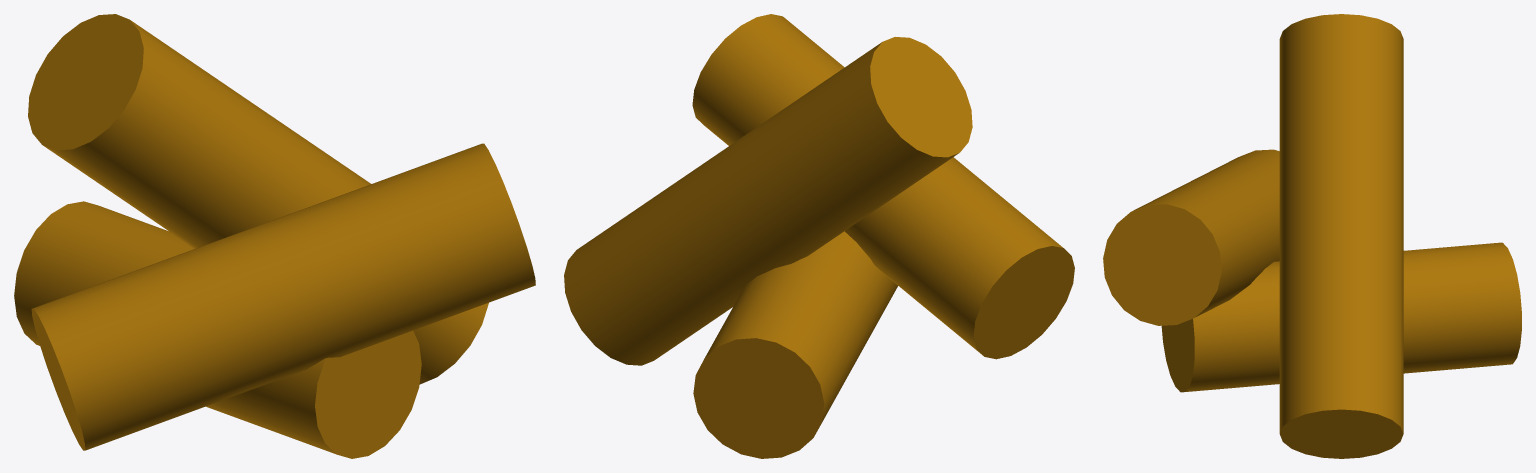
Rendered from Legna.fbx.
The picture shows the model from 3 angles, left to right: view 1: azimuth 30°, elevation 25°; view 2: azimuth 150°, elevation 25°; view 3: azimuth 270°, elevation 25°; orthographic projection. The views are drawn at different scales.
Parts seen in each view (by area): view 1: pCylinder4; view 2: pCylinder4; view 3: pCylinder4.
Part boxes in pixels (x1,y1,x2,y2): pCylinder4: (14,14,535,458); pCylinder4: (564,14,1074,458); pCylinder4: (1103,14,1521,458).
Size of the model in its own units: 3.32 by 2.76 by 3.05.
